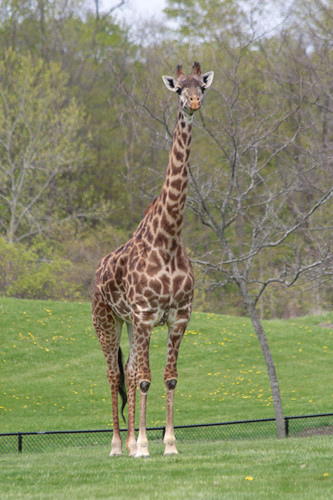giraffe: (67, 59, 232, 466)
